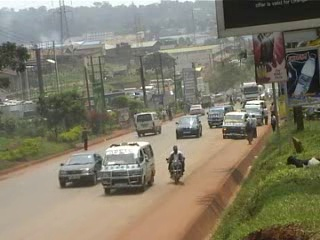Car: (53, 151, 104, 191), (171, 113, 202, 142), (187, 102, 207, 118)
Motorcycle: (164, 142, 186, 184)
